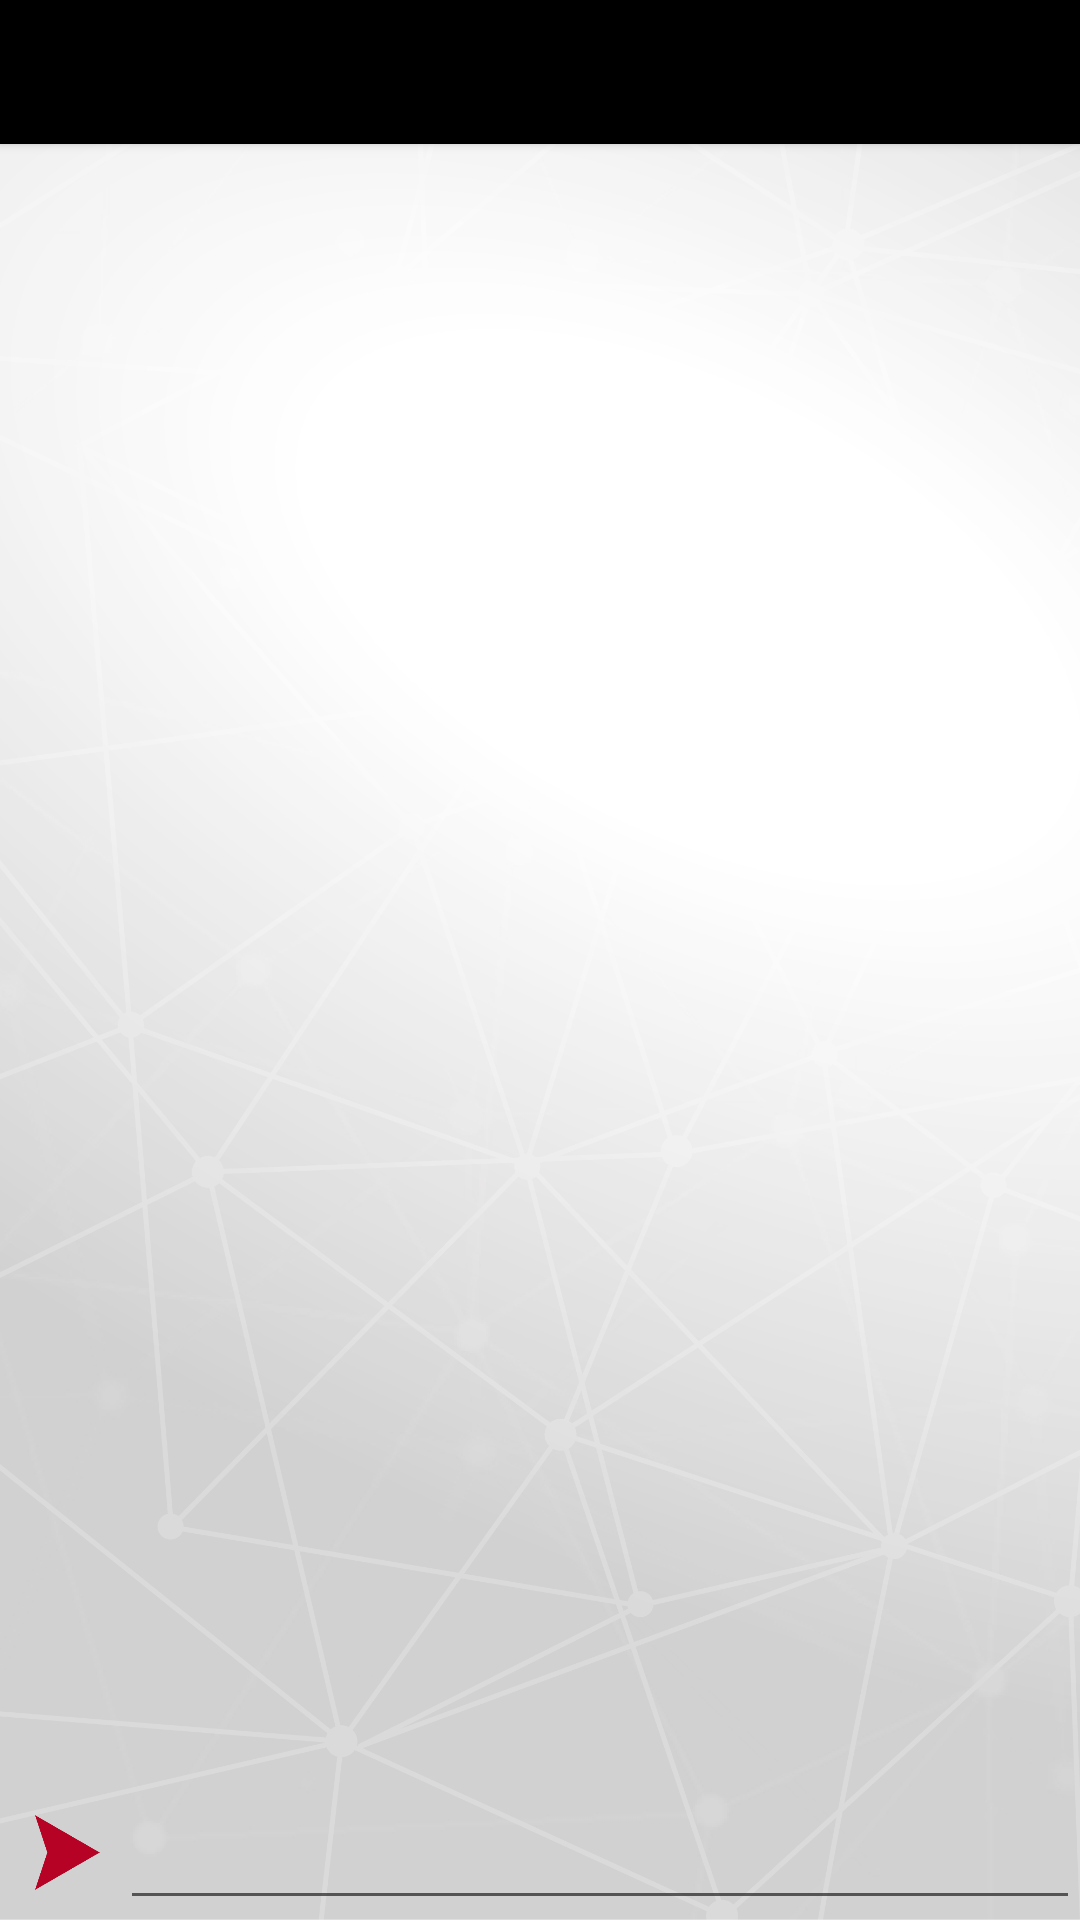

Named icons in this screenshot (1080 x 1920) and their centers, point (x, y):
sendcon: point (67, 1852)
